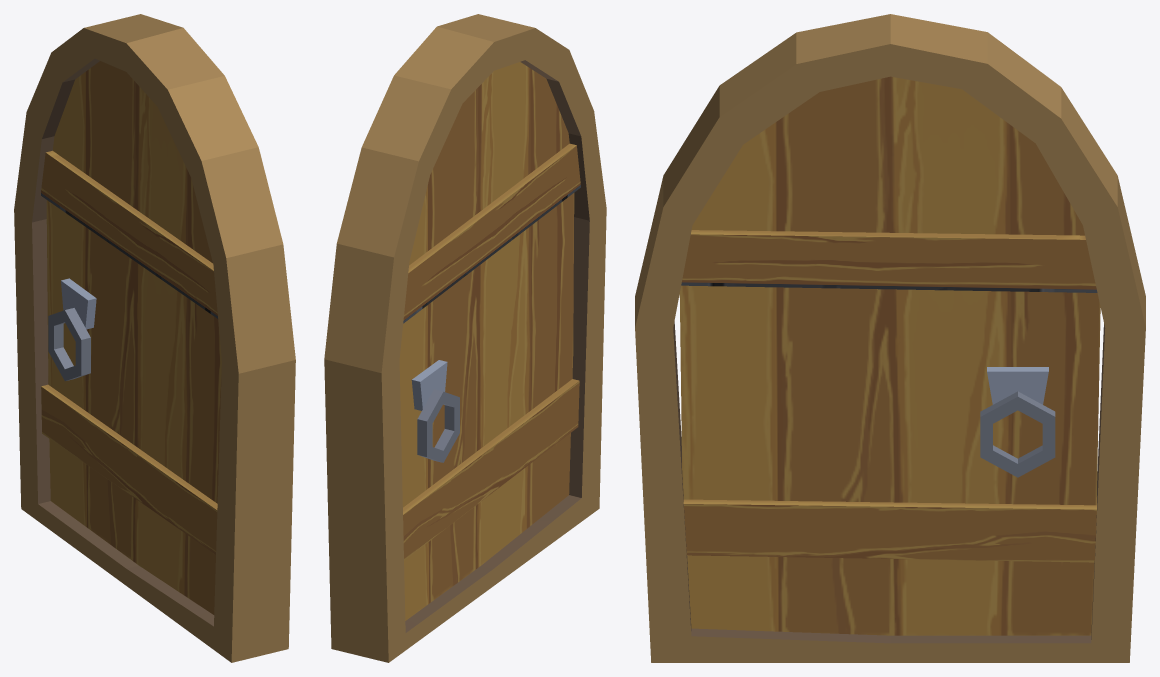
File: Door.fbx
3 views of the same model, side by side, from view 1: azimuth 30°, elevation 25°; view 2: azimuth 150°, elevation 25°; view 3: azimuth 270°, elevation 25° (orthographic). The views are drawn at different scales.
Parts seen in each view (by area): view 1: Door; view 2: Door; view 3: Door.
Part boxes in pixels (x1,y1,x2,y2): Door: (14,14,295,662); Door: (324,14,606,662); Door: (635,14,1145,662).
Bounding box in the file's own units: 5.92 × 45.98 × 34.4.
